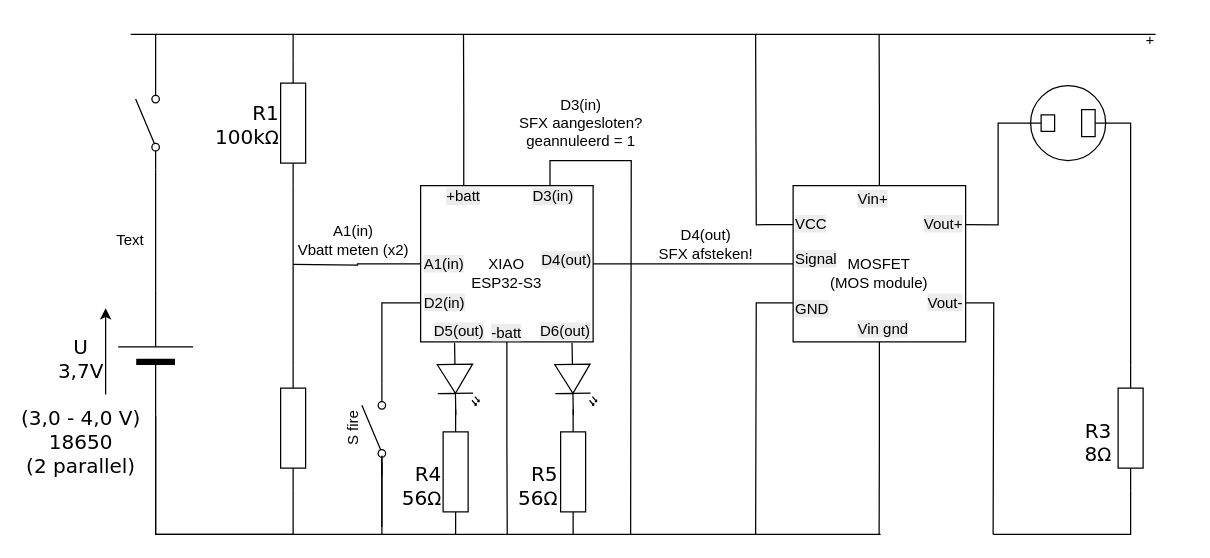
Image size: 1210x558. Some labels were removed from this diagram. Here are the shapes that lost their labels. From the top down, the centre of each, then its label:
At point 147,122: "S power".
At point 292,427: "R2 100k Ω".
